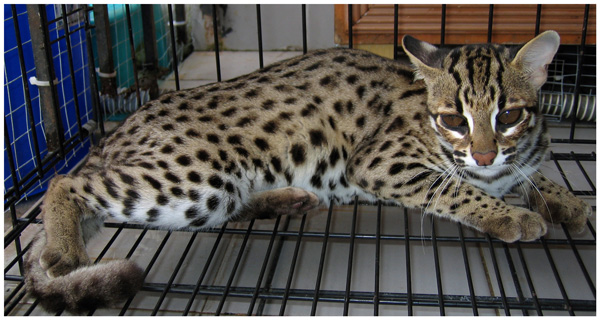cat: (10, 26, 600, 314)
